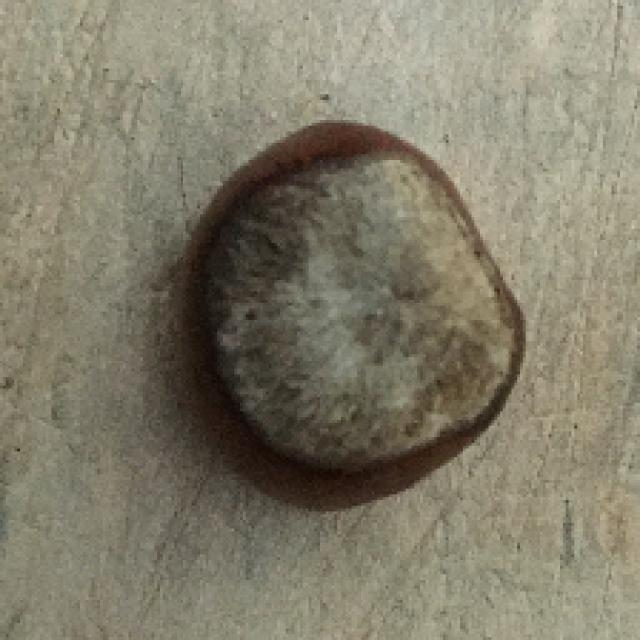QualityHazelnut: (171, 118, 530, 517)
